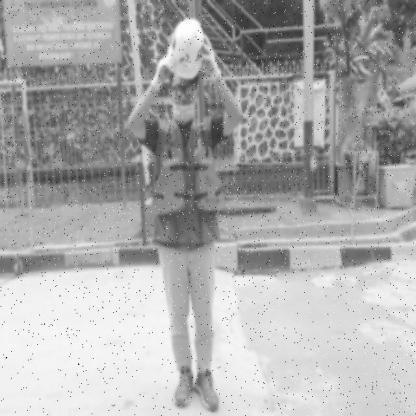boots: (195, 369, 220, 414), (174, 366, 193, 408)
gloves: (202, 34, 220, 81), (150, 54, 172, 92)
goggles: (172, 84, 196, 96)
helmet: (166, 17, 204, 80)
mask: (173, 104, 195, 125)
vest: (150, 146, 225, 212)
